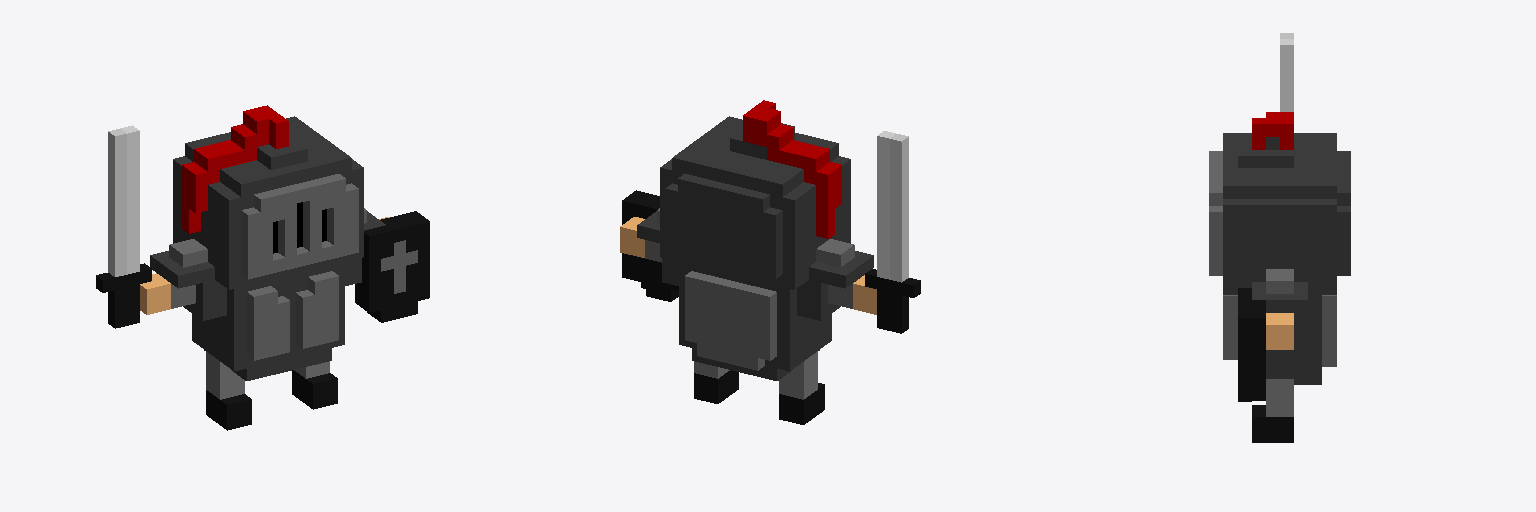
The picture shows the model from 3 angles: view 1: azimuth 30°, elevation 25°; view 2: azimuth 150°, elevation 25°; view 3: azimuth 270°, elevation 25°; orthographic projection.
Visible parts, largest first — view 1: object 1; view 2: object 1; view 3: object 1.
Boxes of the visible parts, box(x1,y1,x2,y2) form: object 1: box(96, 105, 429, 430); object 1: box(620, 100, 920, 424); object 1: box(1209, 33, 1350, 442).
Size of the model in its own units: 2.5 by 2.4 by 1.
1 materials, 1 textured.